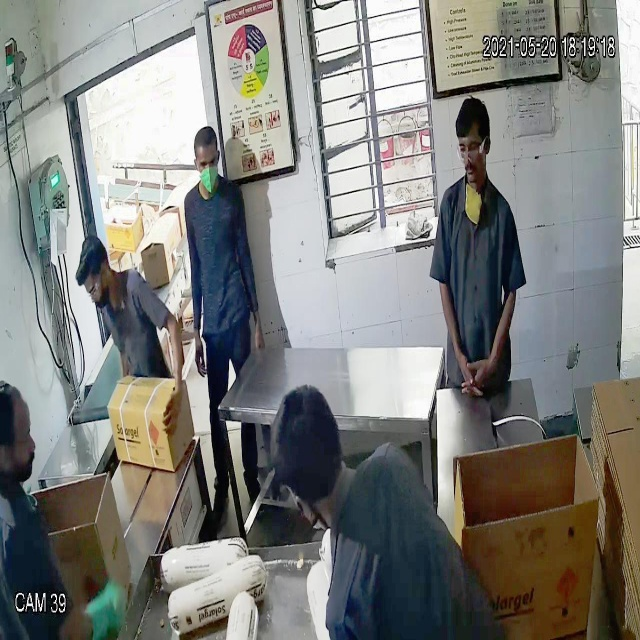Gafas: (453, 135, 491, 165), (190, 149, 221, 175)
